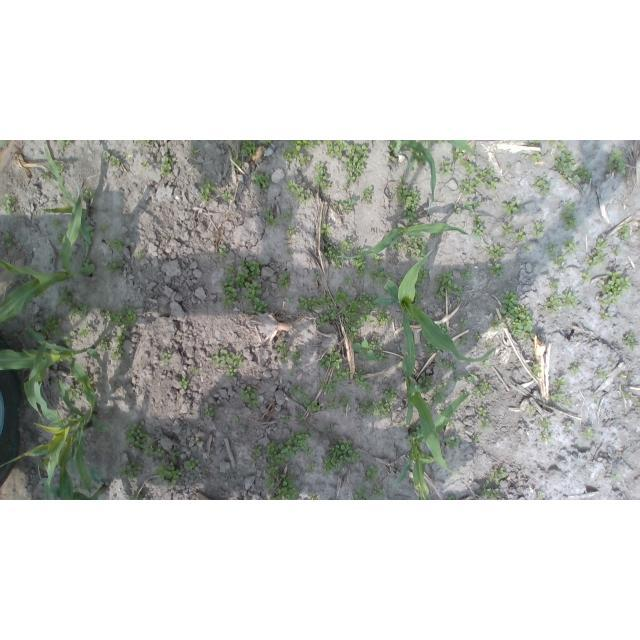Maize: (1, 340, 110, 500), (377, 247, 497, 375), (0, 342, 94, 500), (0, 178, 94, 324), (402, 307, 467, 475), (1, 323, 104, 425), (391, 392, 477, 500), (388, 140, 481, 220), (39, 141, 96, 263), (339, 221, 484, 258), (35, 460, 106, 500)
Weeds: (263, 428, 317, 491), (334, 286, 383, 342), (220, 259, 269, 314), (499, 290, 536, 342), (553, 151, 592, 188), (323, 438, 360, 476), (395, 175, 421, 226), (457, 166, 499, 196), (597, 270, 631, 307), (342, 142, 370, 186), (57, 285, 90, 319), (432, 270, 464, 302), (323, 237, 353, 269), (211, 349, 243, 378), (541, 290, 578, 315), (352, 339, 389, 364), (319, 368, 352, 396), (288, 385, 321, 412), (270, 472, 301, 500), (283, 140, 316, 166), (100, 305, 137, 328), (153, 461, 183, 488), (586, 238, 609, 271), (285, 178, 313, 204), (358, 400, 394, 420), (124, 422, 149, 450), (451, 147, 475, 176), (317, 141, 350, 160), (546, 387, 574, 409), (111, 327, 129, 361), (404, 236, 428, 261), (559, 201, 579, 231), (318, 347, 342, 372), (477, 480, 506, 500), (298, 294, 332, 311), (40, 313, 63, 338), (240, 387, 261, 412), (428, 382, 449, 407), (532, 416, 552, 442), (606, 148, 626, 174), (252, 171, 273, 194), (314, 162, 331, 190), (353, 245, 367, 278), (200, 177, 217, 204), (118, 460, 142, 479), (324, 396, 350, 413), (530, 173, 550, 195), (501, 199, 524, 218), (354, 369, 373, 392), (316, 306, 337, 326), (408, 146, 428, 167), (374, 307, 394, 327), (104, 259, 125, 278), (369, 268, 392, 285), (484, 244, 507, 261), (333, 198, 356, 215), (473, 379, 491, 400), (263, 207, 280, 229), (160, 156, 176, 179), (64, 382, 82, 402), (623, 331, 640, 352), (416, 373, 434, 392), (489, 467, 508, 485), (103, 150, 122, 167), (3, 193, 17, 216), (146, 443, 167, 458), (240, 140, 257, 158), (435, 158, 453, 175), (107, 236, 126, 252), (530, 221, 546, 240), (416, 268, 431, 288), (472, 214, 485, 237), (434, 358, 457, 371), (275, 342, 289, 363), (618, 222, 631, 243), (562, 239, 578, 256), (278, 271, 290, 292), (353, 486, 371, 500), (360, 185, 374, 203), (363, 466, 378, 482), (454, 373, 478, 383), (422, 339, 438, 354), (96, 334, 110, 351), (75, 477, 89, 494), (488, 263, 505, 277), (233, 154, 244, 175), (372, 484, 387, 499), (444, 436, 461, 449), (127, 490, 149, 500), (464, 200, 482, 212), (83, 186, 98, 200), (437, 322, 452, 336), (580, 427, 594, 442), (384, 386, 397, 402), (502, 220, 514, 237), (525, 151, 542, 163), (252, 444, 263, 462), (216, 244, 229, 259), (286, 225, 299, 240), (77, 326, 93, 338), (184, 458, 200, 470), (460, 267, 473, 281), (544, 242, 558, 255), (85, 220, 95, 238), (290, 351, 302, 366), (514, 228, 526, 243), (178, 375, 190, 390), (529, 361, 541, 376), (3, 232, 14, 248), (63, 331, 75, 345), (553, 253, 567, 265), (551, 376, 566, 387), (417, 140, 444, 146), (413, 290, 423, 306), (78, 257, 90, 270), (280, 209, 292, 222), (489, 318, 502, 330), (569, 362, 582, 374), (596, 369, 608, 382), (54, 159, 65, 173), (170, 448, 181, 462), (321, 222, 332, 236), (161, 349, 172, 363), (50, 217, 62, 229), (598, 308, 610, 320), (204, 404, 215, 417), (458, 391, 469, 404), (136, 141, 156, 148), (445, 413, 455, 427), (41, 169, 52, 181), (220, 191, 232, 202), (371, 253, 382, 265), (581, 271, 592, 283), (56, 231, 66, 244), (480, 417, 490, 430), (295, 413, 308, 422), (477, 407, 487, 418), (458, 335, 469, 345), (609, 471, 620, 481), (20, 274, 32, 283), (445, 493, 460, 500), (529, 141, 544, 148), (342, 275, 352, 285), (392, 241, 402, 251), (482, 360, 492, 370), (557, 141, 567, 151), (140, 160, 151, 169), (309, 491, 320, 500), (472, 434, 483, 443), (612, 246, 621, 257), (563, 420, 572, 431), (39, 454, 46, 468), (59, 140, 71, 148), (311, 272, 321, 281), (258, 140, 273, 146), (457, 318, 467, 327), (549, 280, 558, 290), (388, 141, 396, 152), (528, 405, 536, 416), (135, 251, 144, 260), (412, 423, 421, 432), (437, 407, 446, 416), (99, 224, 109, 232), (187, 147, 197, 155), (472, 332, 482, 340), (453, 205, 461, 214), (388, 155, 397, 163), (546, 140, 557, 146), (233, 415, 241, 423), (396, 277, 404, 285), (524, 243, 532, 251), (620, 374, 629, 381), (624, 392, 633, 399), (537, 491, 544, 500), (593, 395, 600, 404), (557, 267, 567, 273), (284, 415, 291, 423), (485, 341, 493, 348), (22, 401, 31, 407), (342, 183, 348, 192), (190, 367, 199, 373), (25, 467, 32, 474), (327, 424, 333, 431), (241, 427, 247, 434), (397, 422, 404, 428), (622, 451, 627, 459), (287, 249, 293, 255), (328, 497, 340, 500), (506, 162, 512, 168), (196, 438, 201, 445), (289, 369, 294, 376), (288, 296, 292, 303), (637, 402, 640, 407)
